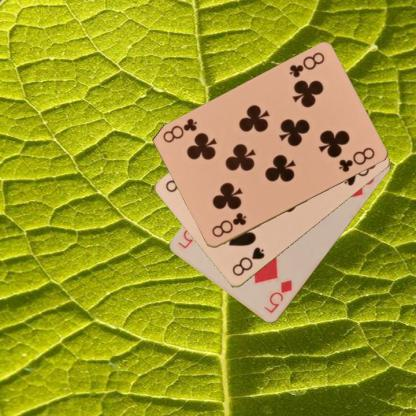5d: (261, 277, 294, 315)
8c: (208, 210, 248, 239), (286, 50, 326, 79)
8s: (229, 244, 266, 278)
